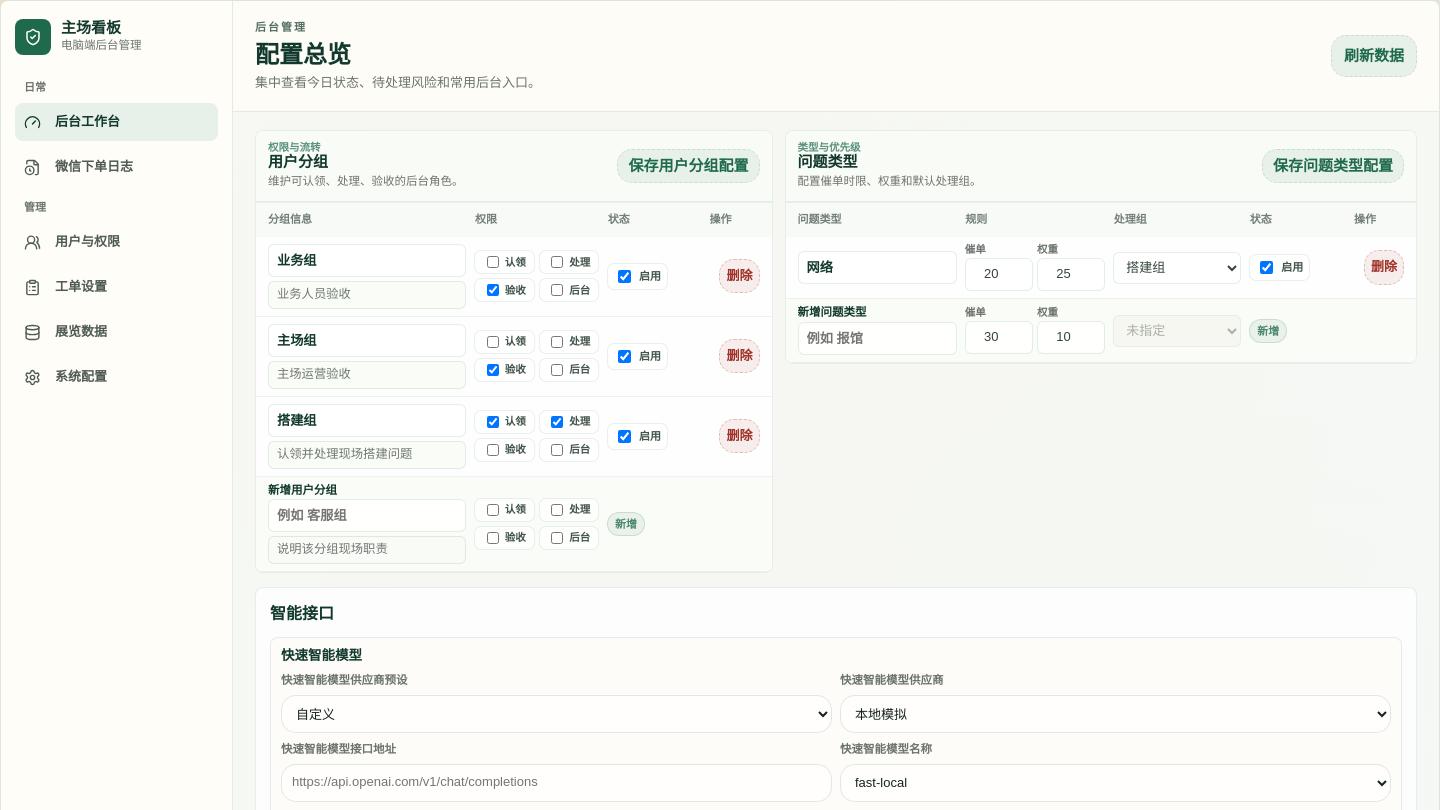
Test: AdminConfigCenter user groups › saves issue types as one list, excludes automatic option and uses configured group choices
Replace the text in the number field named "网络催单分钟" with "25" at (999,275), box [965,258,1033,291]
Select "业务组" in the dropdown named "网络默认处理组" at (1177,268), box [1113,252,1241,284]
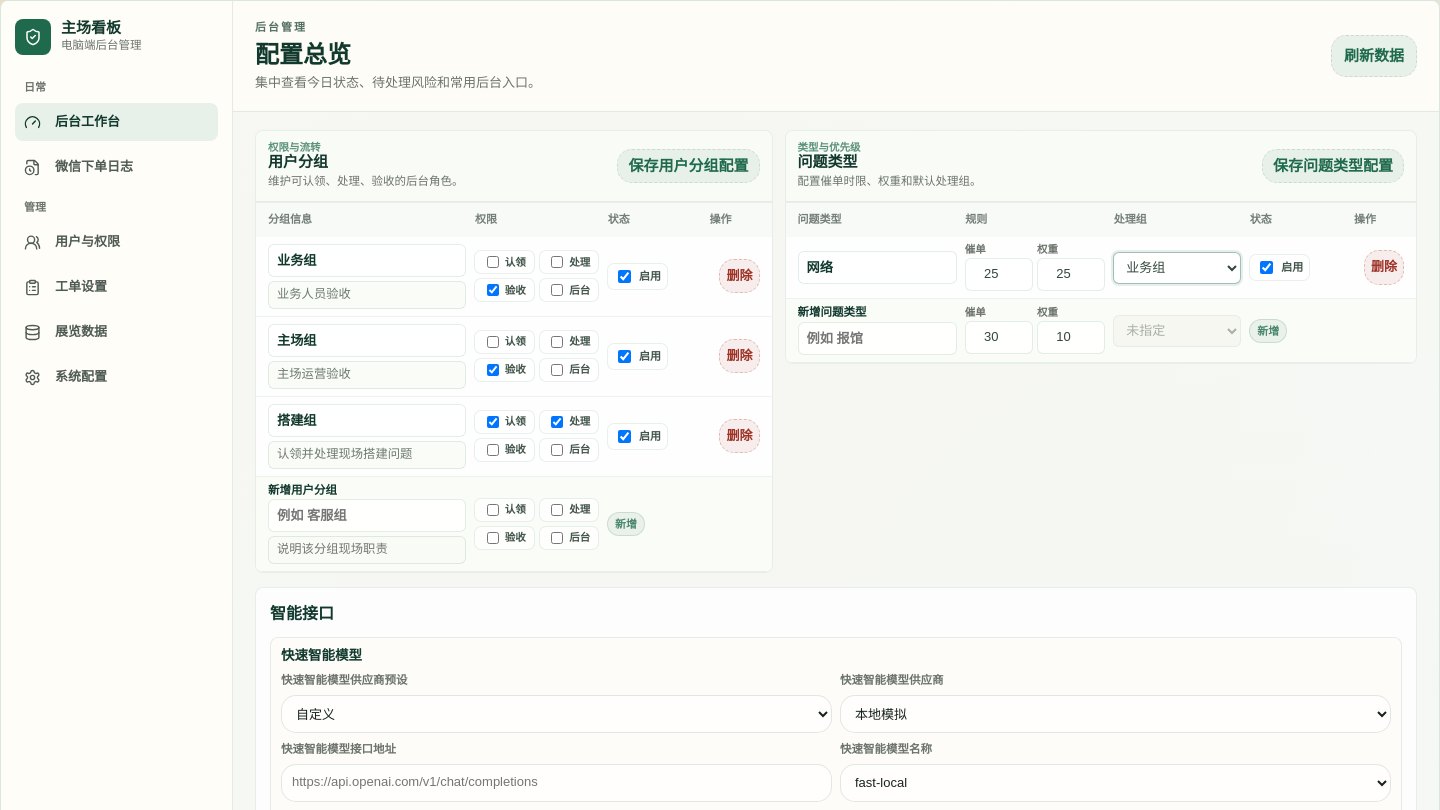
Type "报馆" into the field named "新增问题类型名称" at (877,338), box [798,322,957,355]
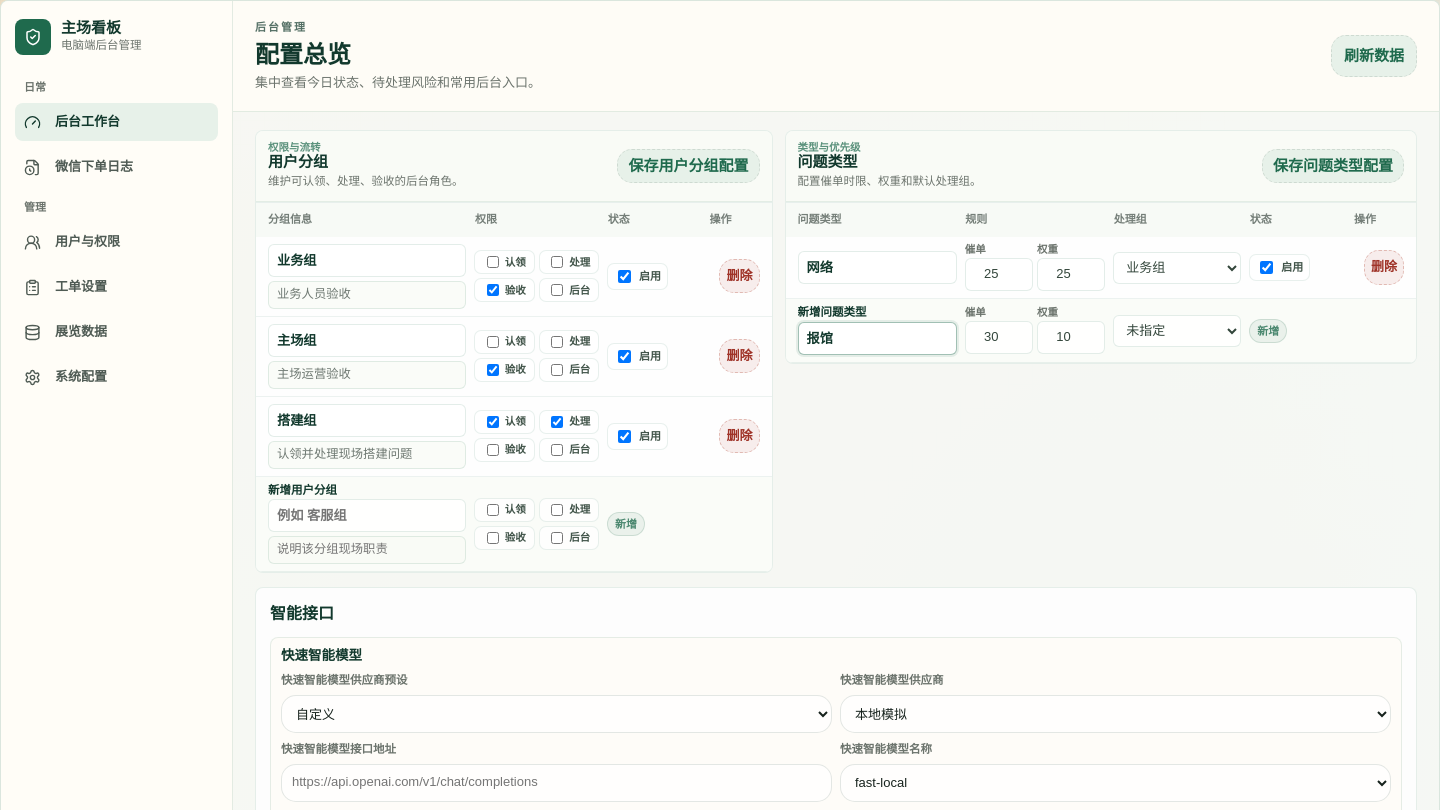
Replace the text in the number field named "新增问题类型催单分钟" with "35" at (999,338), box [965,322,1033,354]
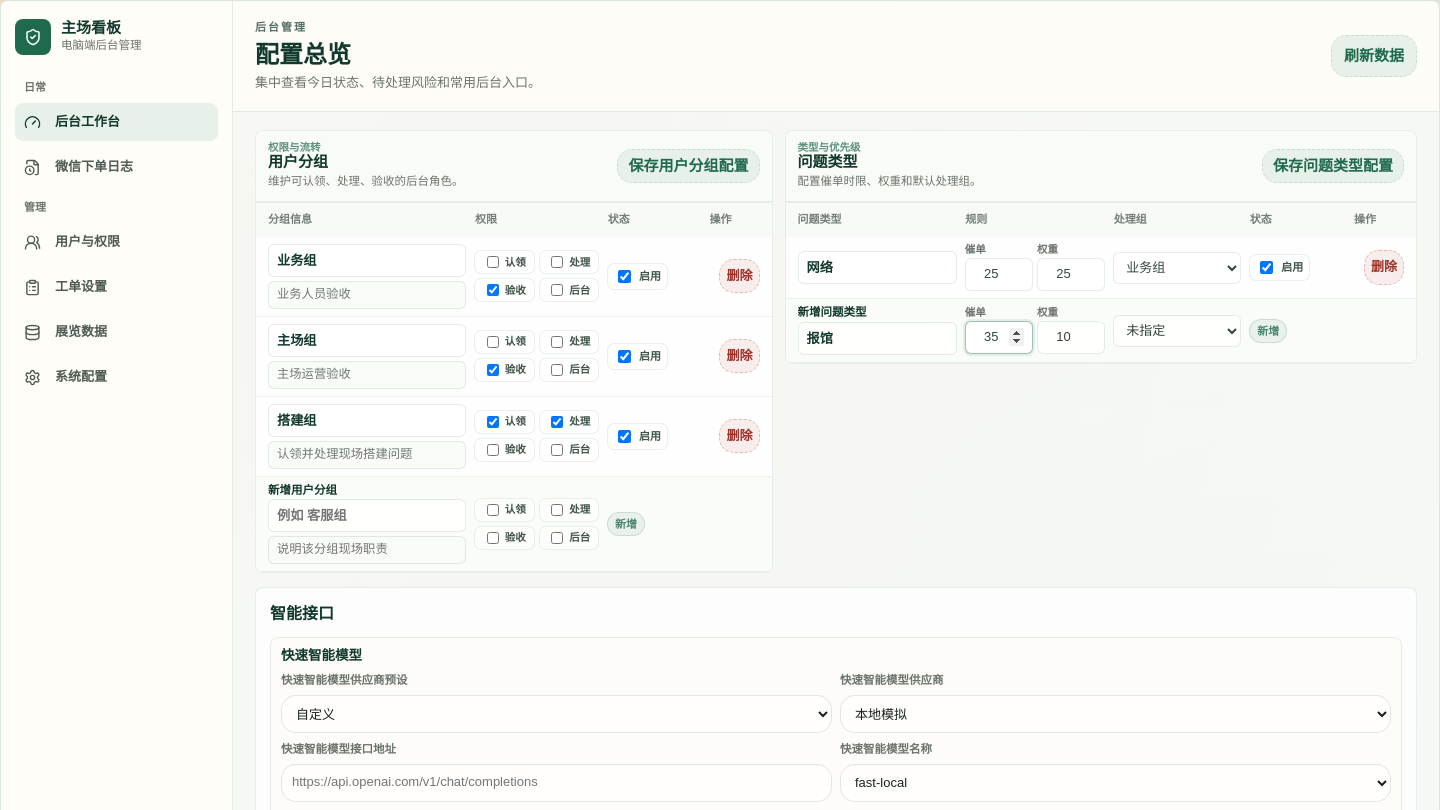
Replace the text in the number field named "新增问题类型优先权重" with "12" at (1071,338), box [1037,322,1105,354]
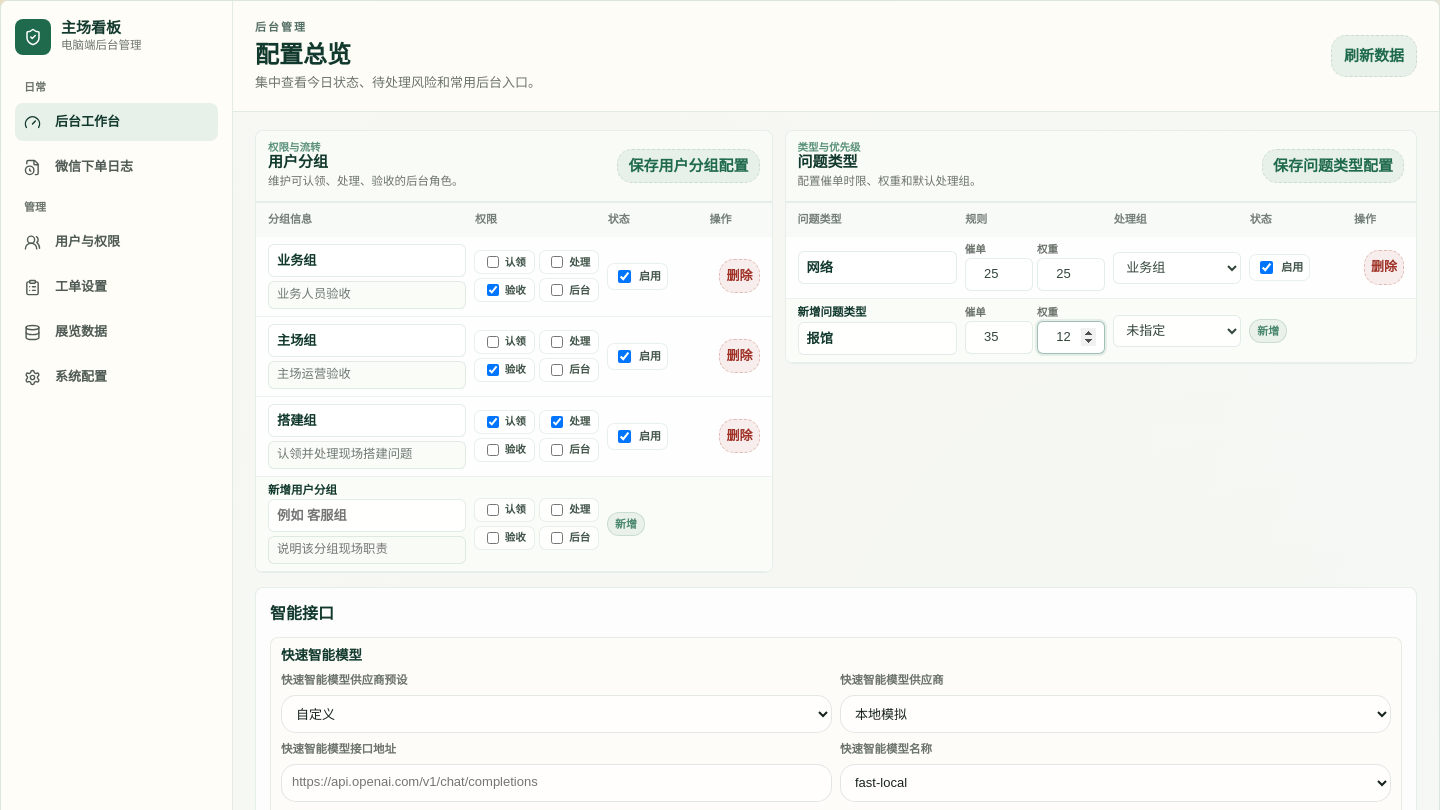
Select "主场组" in the dropdown named "新增问题类型默认处理组" at (1177,331), box [1113,315,1241,347]
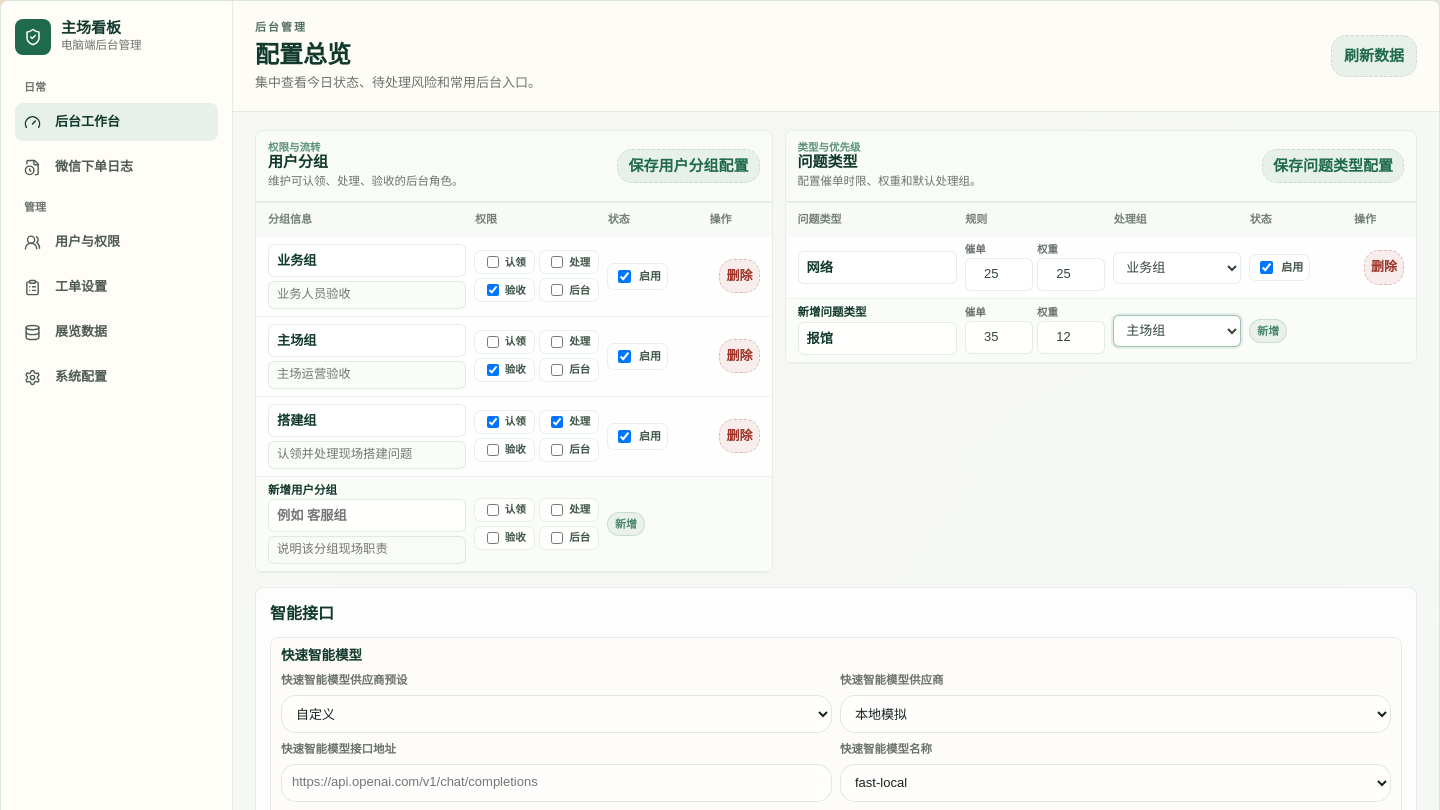
Click the button "保存问题类型配置" at (1333,166), box [1262,149,1404,183]
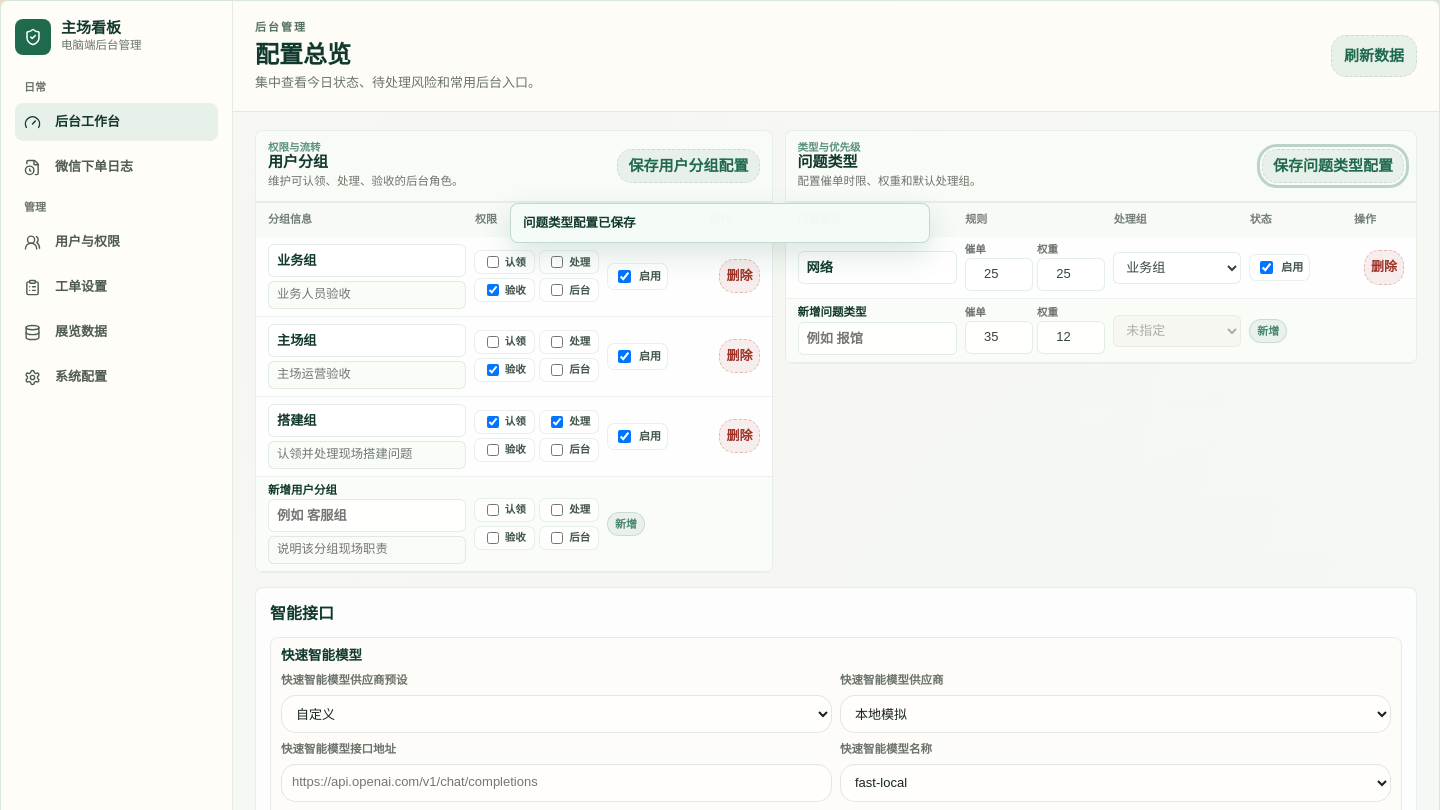
Now the message reads "问题类型配置已保存", box [523,216,636,230]
Now the field named "新增问题类型名称" is empty, box [798,322,957,355]
